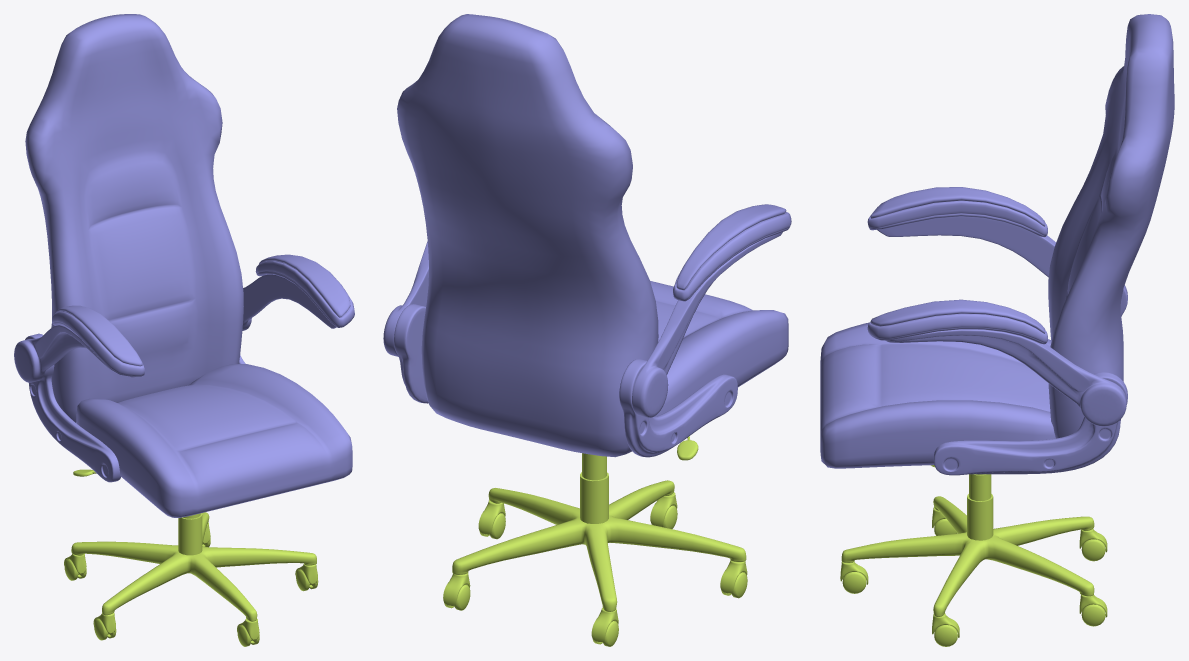
Rendered from Gaming Chair_lp.fbx.
3 renders of one model, left to right at view 1: azimuth 30°, elevation 25°; view 2: azimuth 150°, elevation 25°; view 3: azimuth 270°, elevation 25°, orthographic. The views are drawn at different scales.
Visible parts, largest first — view 1: Gaming_Chair_BackSeat_lp, Gaming_Chair_Seat_lp, Gaming_Chair_Leg_lp, Gaming_Chair_ArmRest2_lp, Gaming_Chair_ArmRest_lp, Gaming_Chair_ArmRest3_lp, Gaming_Chair_Roller2_lp, Gaming_Chair_Susp3_lp, Gaming_Chair_Roller3_lp, Gaming_Chair_Roller_lp; view 2: Gaming_Chair_BackSeat_lp, Gaming_Chair_Leg_lp, Gaming_Chair_Seat_lp, Gaming_Chair_ArmRest3_lp, Gaming_Chair_ArmRest_lp, Gaming_Chair_ArmRest2_lp, Gaming_Chair_Susp3_lp, Gaming_Chair_Roller2_lp, Gaming_Chair_Roller3_lp, Gaming_Chair_Roller_lp; view 3: Gaming_Chair_BackSeat_lp, Gaming_Chair_Seat_lp, Gaming_Chair_ArmRest2_lp, Gaming_Chair_ArmRest_lp, Gaming_Chair_Leg_lp, Gaming_Chair_ArmRest3_lp, Gaming_Chair_Susp3_lp, Gaming_Chair_Roller3_lp, Gaming_Chair_Roller2_lp, Gaming_Chair_Roller_lp.
Boxes of the visible parts, bbox=[...] form: Gaming_Chair_BackSeat_lp: bbox=[25, 14, 243, 422]; Gaming_Chair_Seat_lp: bbox=[76, 364, 352, 517]; Gaming_Chair_Leg_lp: bbox=[71, 512, 316, 621]; Gaming_Chair_ArmRest2_lp: bbox=[52, 254, 354, 376]; Gaming_Chair_ArmRest_lp: bbox=[14, 274, 336, 382]; Gaming_Chair_ArmRest3_lp: bbox=[25, 333, 245, 482]; Gaming_Chair_Roller2_lp: bbox=[93, 564, 318, 640]; Gaming_Chair_Susp3_lp: bbox=[178, 513, 202, 555]; Gaming_Chair_Roller3_lp: bbox=[64, 522, 210, 580]; Gaming_Chair_Roller_lp: bbox=[237, 618, 259, 646]; Gaming_Chair_BackSeat_lp: bbox=[397, 14, 658, 457]; Gaming_Chair_Leg_lp: bbox=[452, 480, 746, 611]; Gaming_Chair_Seat_lp: bbox=[650, 281, 788, 416]; Gaming_Chair_ArmRest3_lp: bbox=[394, 304, 737, 457]; Gaming_Chair_ArmRest_lp: bbox=[383, 232, 782, 417]; Gaming_Chair_ArmRest2_lp: bbox=[673, 204, 791, 301]; Gaming_Chair_Susp3_lp: bbox=[580, 453, 608, 523]; Gaming_Chair_Roller2_lp: bbox=[478, 500, 747, 598]; Gaming_Chair_Roller3_lp: bbox=[443, 573, 618, 646]; Gaming_Chair_Roller_lp: bbox=[650, 492, 677, 528]; Gaming_Chair_BackSeat_lp: bbox=[1048, 14, 1174, 438]; Gaming_Chair_Seat_lp: bbox=[820, 322, 1055, 468]; Gaming_Chair_ArmRest2_lp: bbox=[867, 187, 1047, 344]; Gaming_Chair_ArmRest_lp: bbox=[877, 216, 1126, 426]; Gaming_Chair_Leg_lp: bbox=[841, 496, 1094, 616]; Gaming_Chair_ArmRest3_lp: bbox=[933, 285, 1127, 475]; Gaming_Chair_Susp3_lp: bbox=[967, 474, 993, 540]; Gaming_Chair_Roller3_lp: bbox=[1079, 529, 1107, 626]; Gaming_Chair_Roller2_lp: bbox=[932, 507, 959, 646]; Gaming_Chair_Roller_lp: bbox=[840, 562, 868, 593].
Size of the model in its own units: 70.32 by 143 by 81.05.
